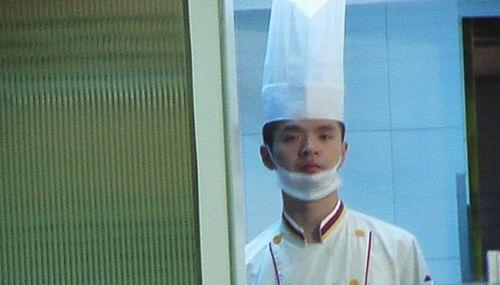WRONG: (274, 123, 344, 193)
